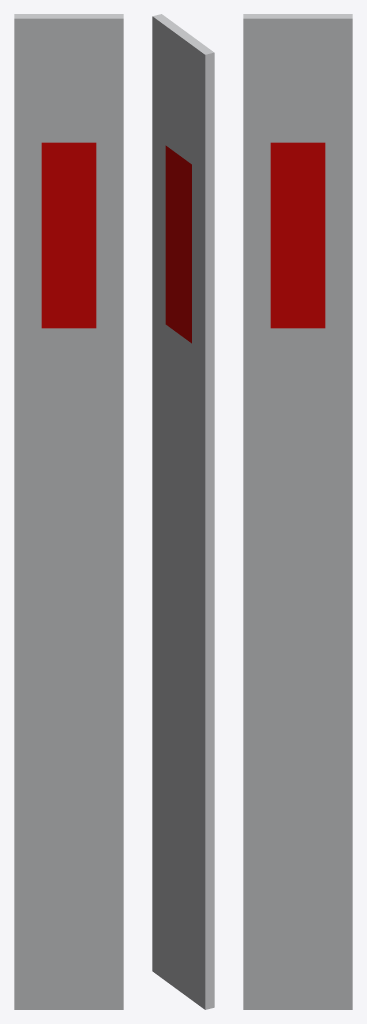
The model's file is bollar.glb.
3 renders of one model, left to right at view 1: azimuth 90°, elevation 25°; view 2: azimuth 210°, elevation 25°; view 3: azimuth 270°, elevation 25°, orthographic. The views are drawn at different scales.
Visible parts, largest first — view 1: Cube; view 2: Cube; view 3: Cube.
Boxes of the visible parts, <box> form: Cube: <box>14,14,123,1009</box>; Cube: <box>152,14,214,1009</box>; Cube: <box>243,14,352,1009</box>.
Bounding box in the file's own units: 0.0204 × 2 × 0.2.
